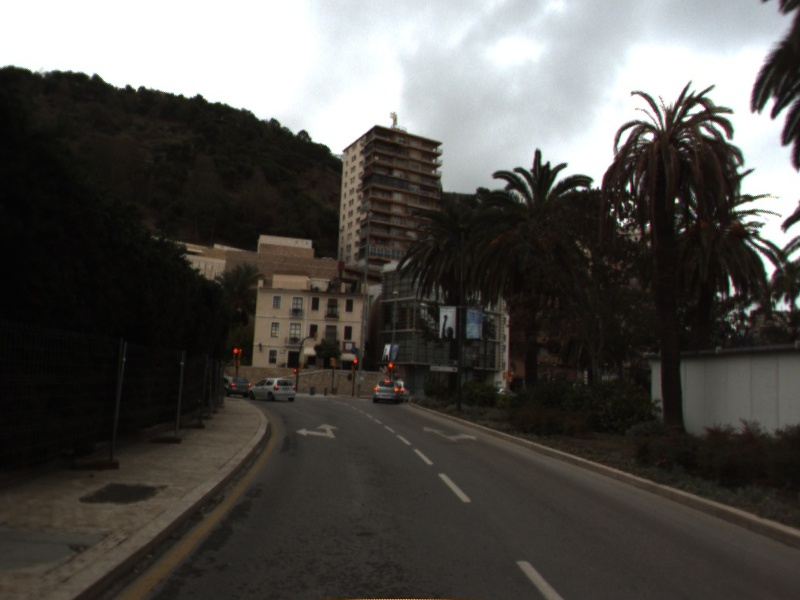STRAIGHT_LEFT: (293, 421, 342, 441)
STRAIGHT_RIGHT: (421, 424, 480, 444)
